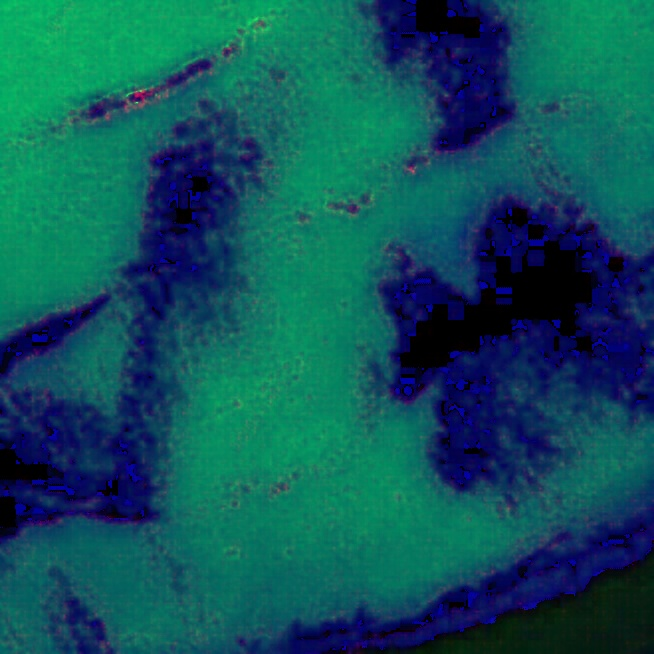rip_current: (167, 161, 484, 542)
